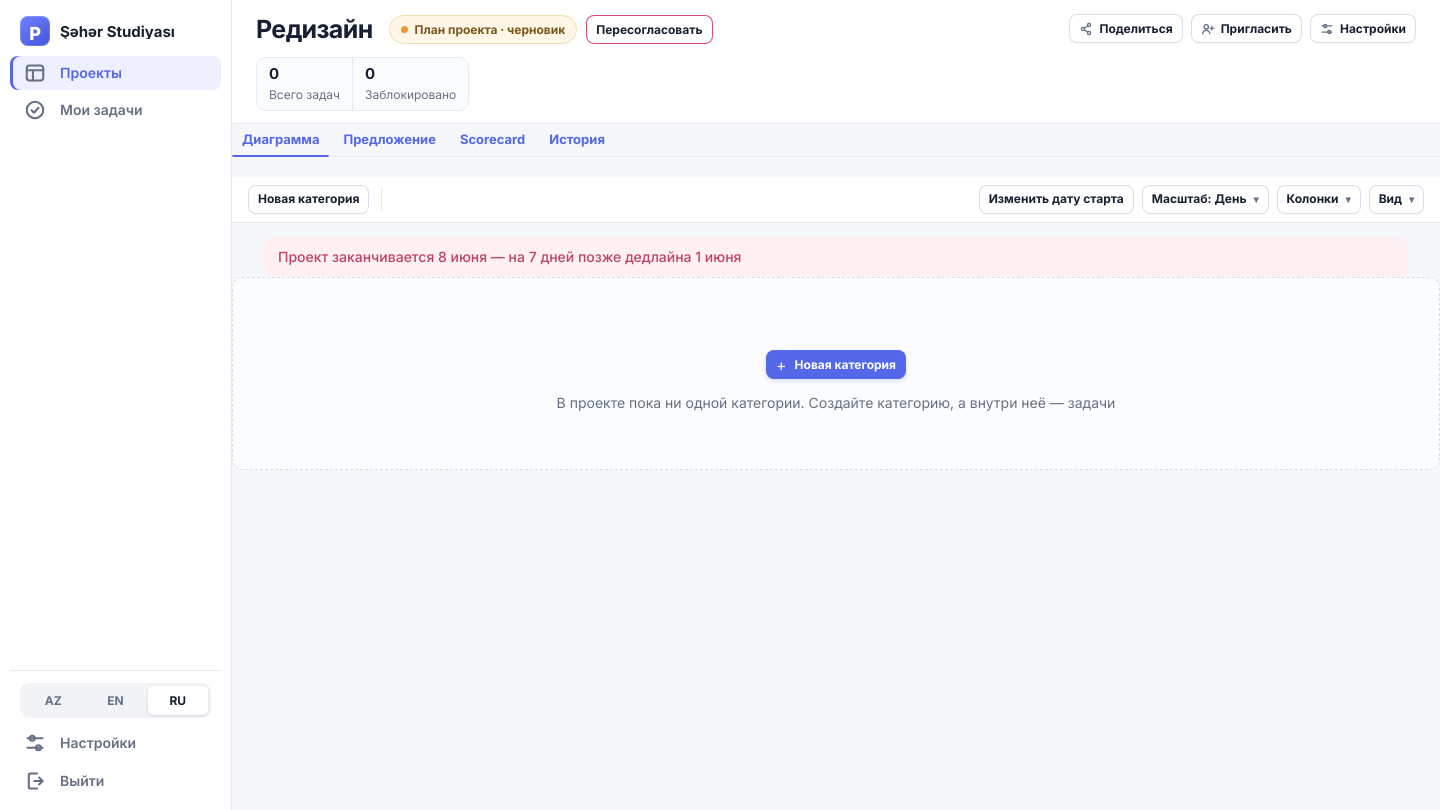
Test case: создание категории › на пустой ленте первую категорию заводит кнопка в самой ленте
The width and height of the screenshot is (1440, 810).
Click the button "+ Новая категория". click: (836, 365)
box: [766,350,906,379]
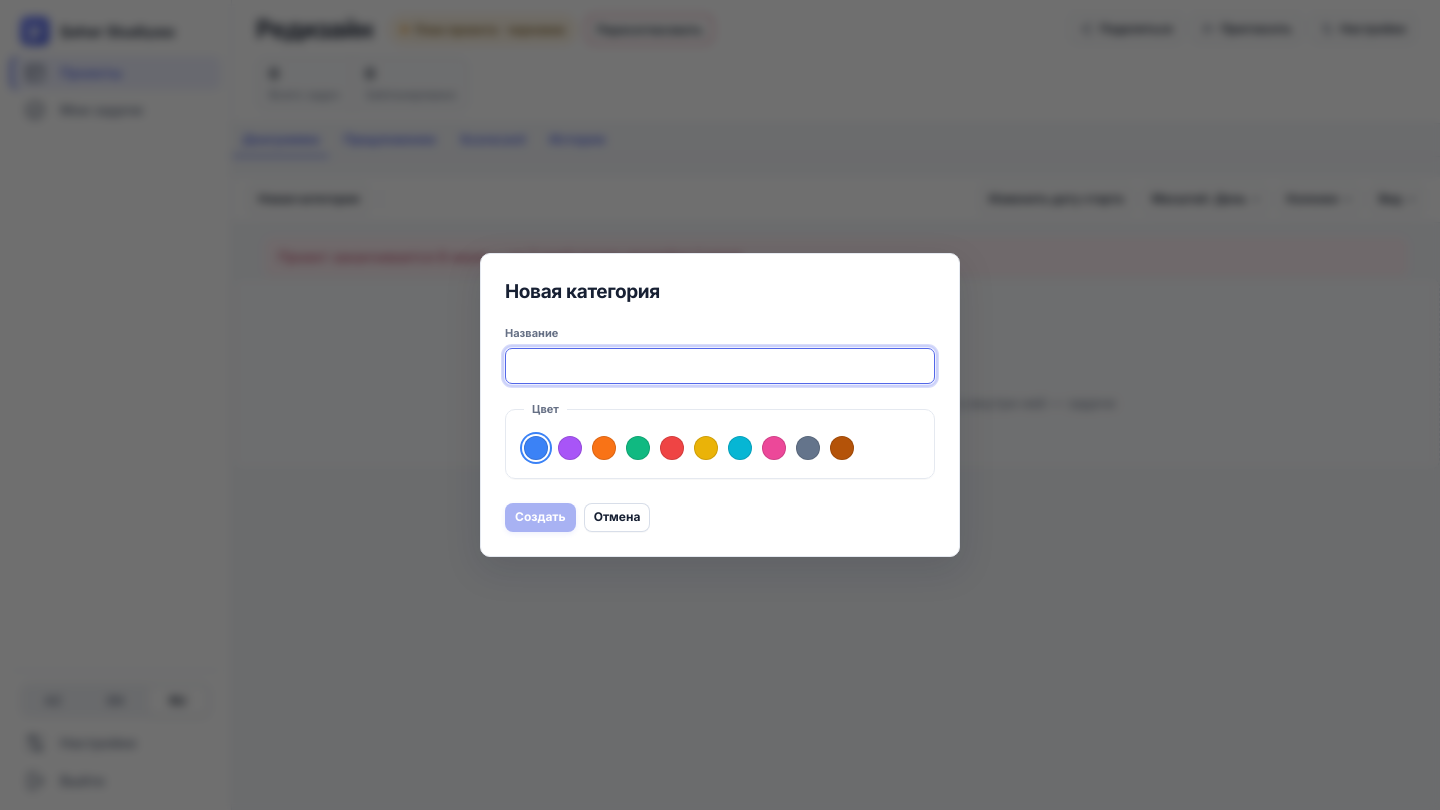
expect the dialog is shown: met, box [480,253,960,557]
expect the field labelled "Название" is shown: met, box [505,348,935,384]
